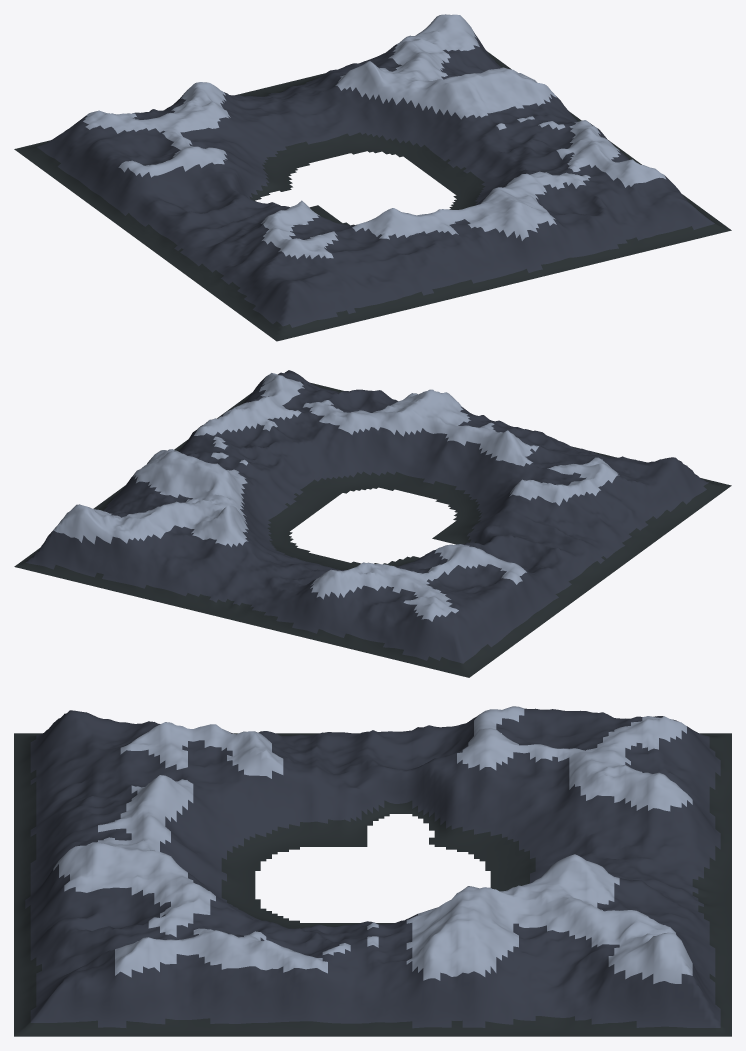
The model's file is range.dae.
3 views of the same model, one above another, from view 1: azimuth 30°, elevation 25°; view 2: azimuth 150°, elevation 25°; view 3: azimuth 270°, elevation 25° (orthographic). The views are drawn at different scales.
Visible parts, largest first — view 1: rock-node, snow-node, treeline-node; view 2: rock-node, snow-node, treeline-node; view 3: rock-node, snow-node, treeline-node.
Part boxes in pixels (x1,y1,x2,y2): rock-node: (37, 33, 714, 327); snow-node: (83, 14, 666, 258); treeline-node: (14, 51, 731, 341); rock-node: (25, 370, 708, 663); snow-node: (53, 373, 619, 621); treeline-node: (14, 382, 731, 677); rock-node: (25, 708, 720, 1028); snow-node: (53, 706, 692, 983); treeline-node: (14, 733, 731, 1036).
Size of the model in its own units: 1800 by 1800 by 217.
